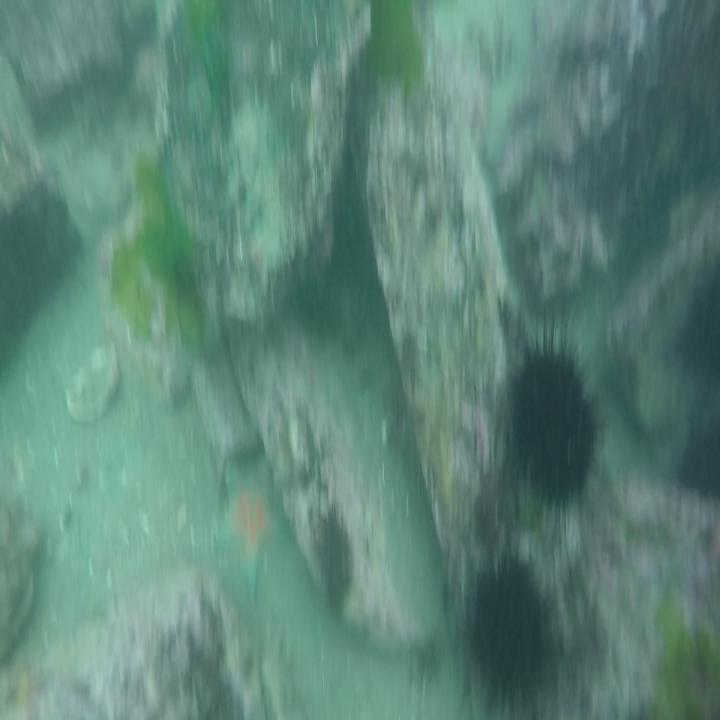echinus: (501, 325, 603, 534), (466, 548, 550, 705), (315, 514, 354, 612)
starfish: (223, 456, 285, 595)
